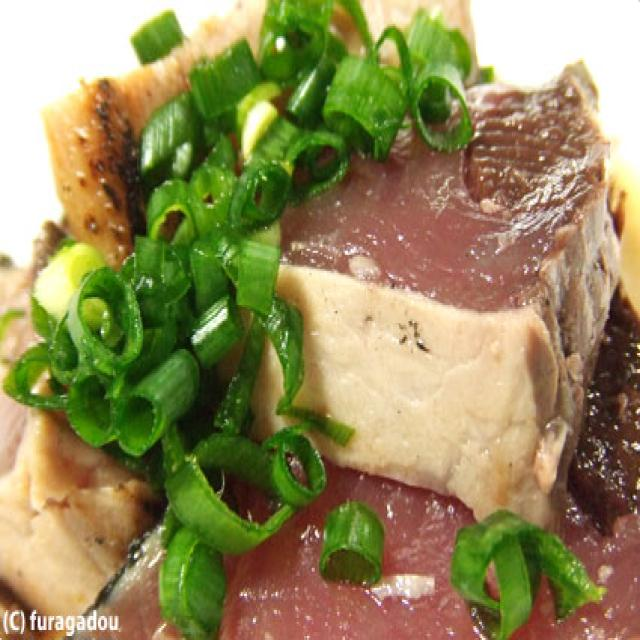熟制海鲜: (21, 24, 640, 640)
